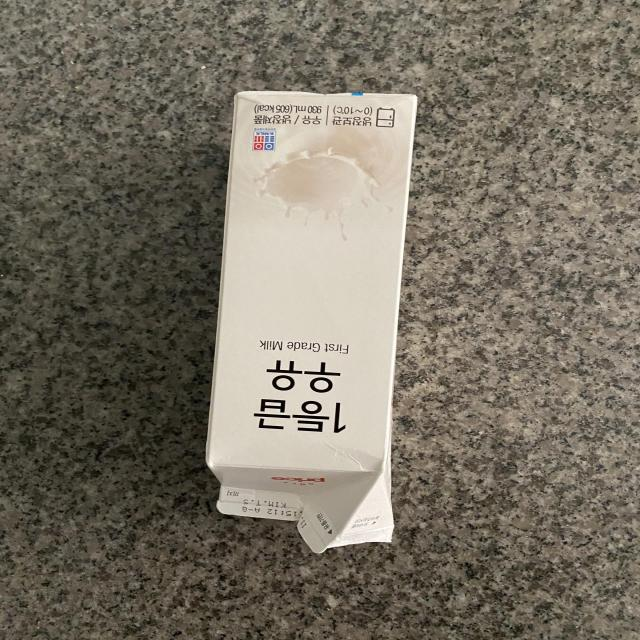paperpack: (206, 91, 417, 554)
